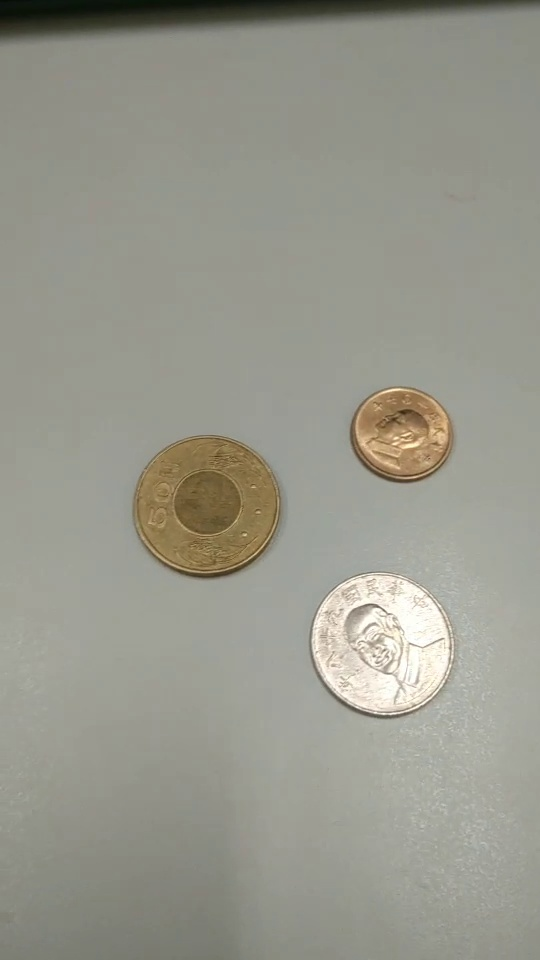NT$ 1: (348, 386, 453, 485)
NT$ 10: (309, 572, 454, 717)
NT$ 50: (132, 434, 286, 579)
